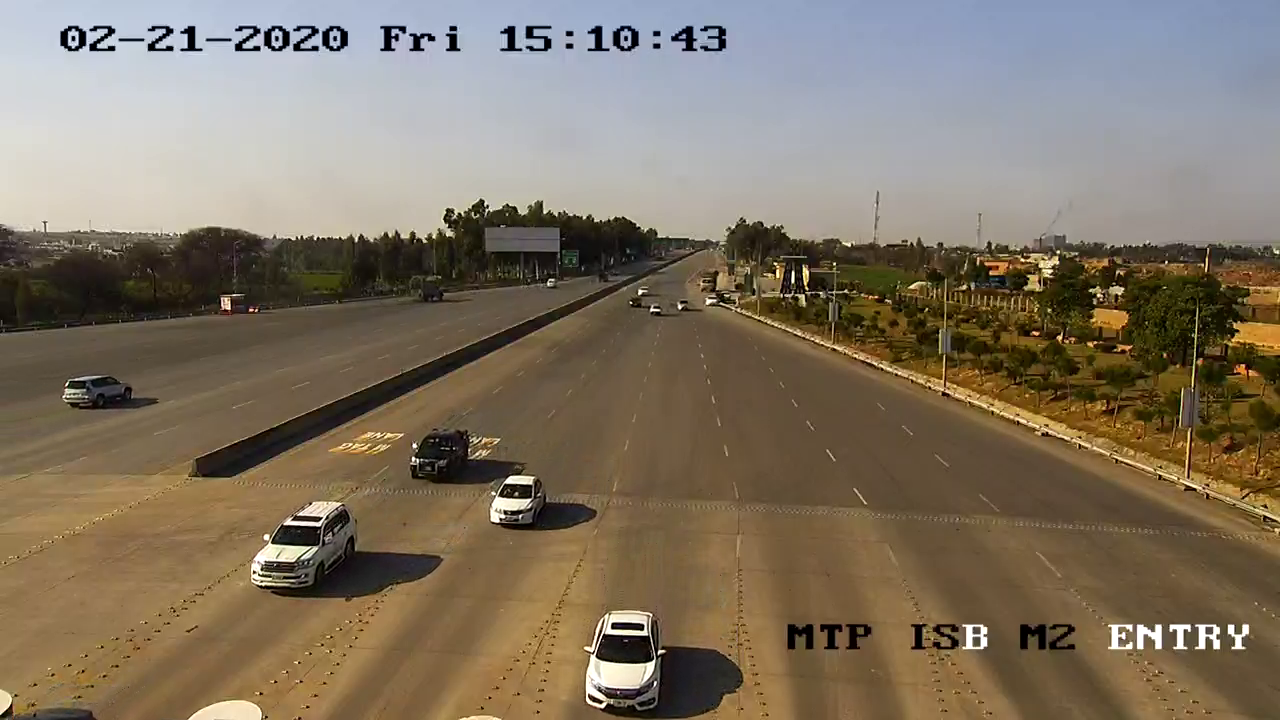f1: (248, 491, 364, 600), (579, 604, 672, 720), (406, 419, 476, 492), (486, 466, 551, 541)
